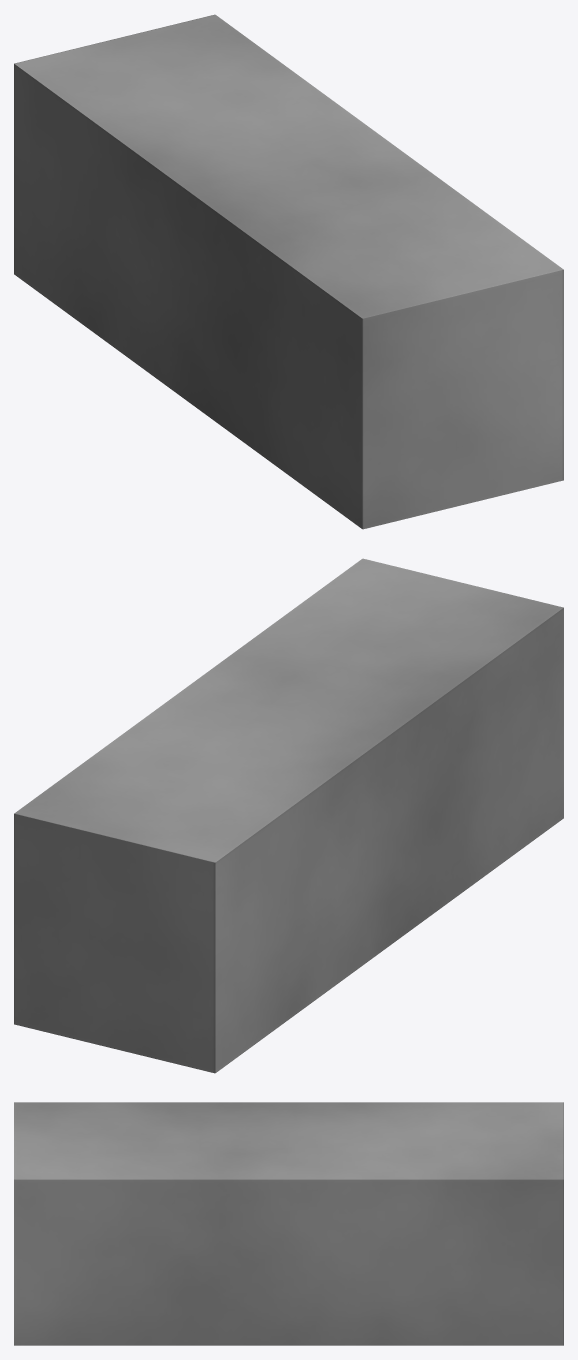
Rendered from office-file-cabinet-bfd752.glb.
3 views of the same model, one above another, from view 1: azimuth 30°, elevation 25°; view 2: azimuth 150°, elevation 25°; view 3: azimuth 270°, elevation 25° (orthographic). The views are drawn at different scales.
Visible parts, largest first — view 1: PropMesh; view 2: PropMesh; view 3: PropMesh.
Boxes of the visible parts, bbox=[...] form: PropMesh: bbox=[14, 14, 563, 529]; PropMesh: bbox=[14, 558, 563, 1073]; PropMesh: bbox=[14, 1102, 563, 1345].
Bounding box in the file's own units: 0.4 × 0.4225 × 1.2.
1 material, 1 textured.
